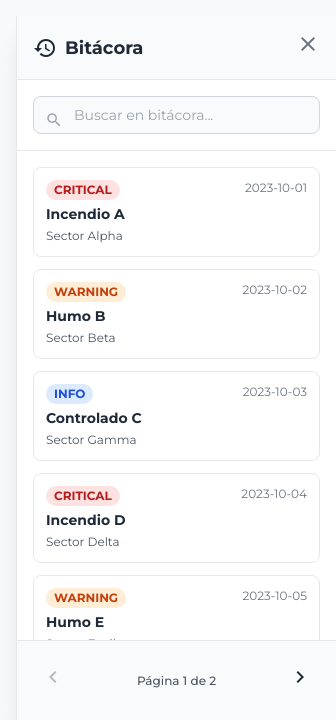
Scenario: SidebarRight - Lógica de Filtrado y Paginación › Reinicia la paginación a la página 1 automáticamente al filtrar
Ir a la página 2 para ver el evento 6
Click the button named "Página siguiente" at (300, 680), box 280,657 -> 320,704
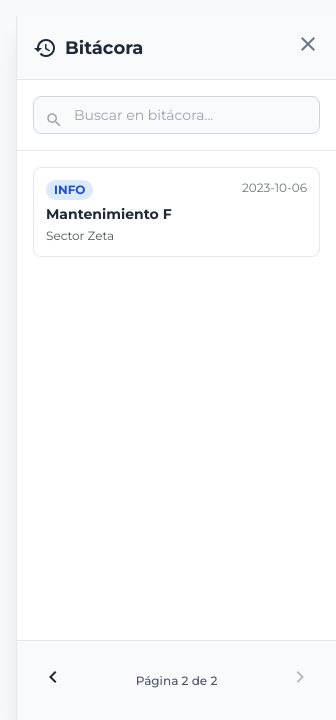
Check: the heading "Mantenimiento F" is shown, box 46,205 -> 172,223
Aplicar filtro que coincida con un evento de la página 1 (ej. "Alpha")
Type "Alpha" into the field with placeholder "Buscar en bitácora..." at (176, 115), box 33,96 -> 320,134
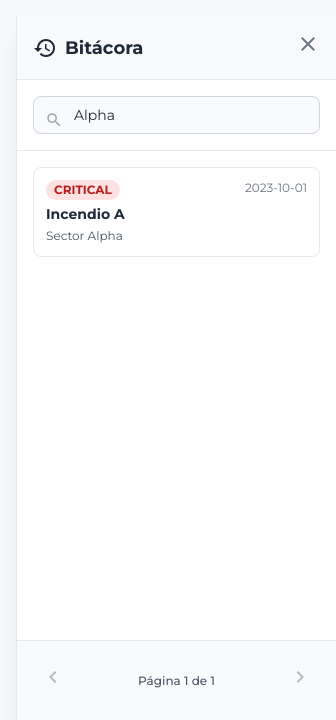
Check: the heading "Incendio A" is shown, box 46,205 -> 125,223
Check: the text "Página 1 de 1" is shown, box 138,672 -> 215,688
